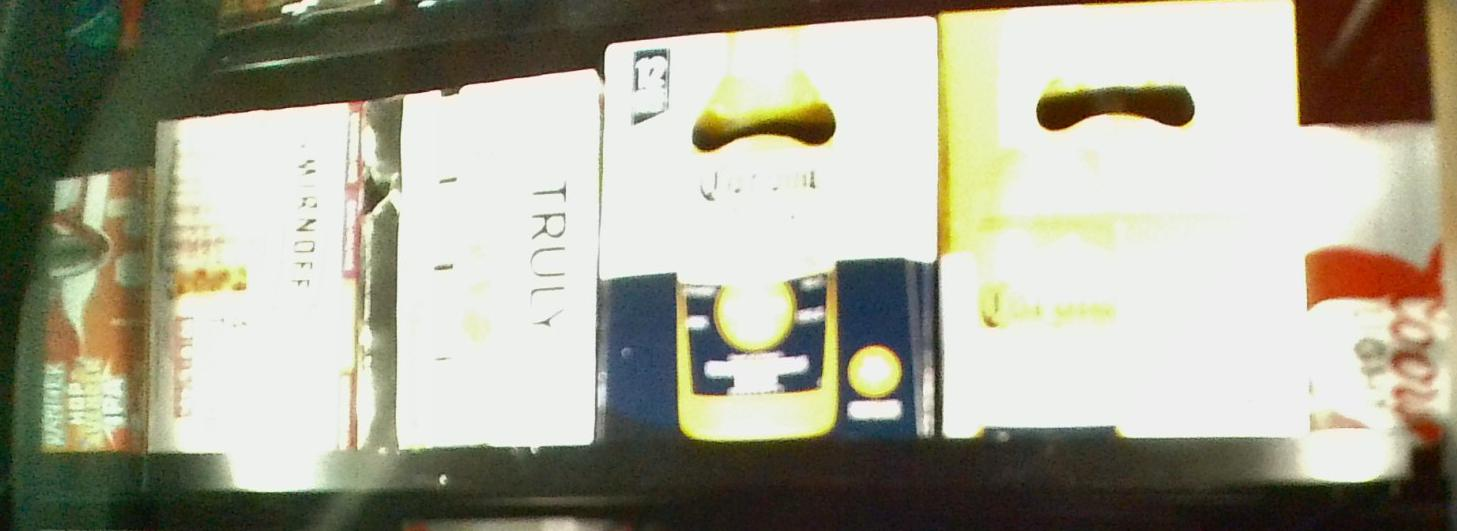bottle: (938, 5, 1310, 442), (603, 15, 938, 442), (370, 68, 592, 447), (159, 114, 364, 452), (1312, 126, 1447, 431)
